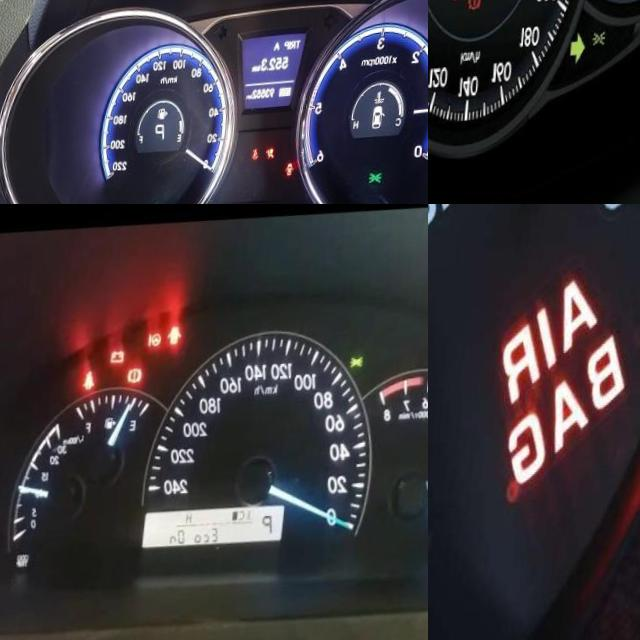Electronic Power Steering: (151, 337, 165, 353)
Seat Belt: (86, 373, 99, 394)
SideLamp: (374, 182, 389, 195)
